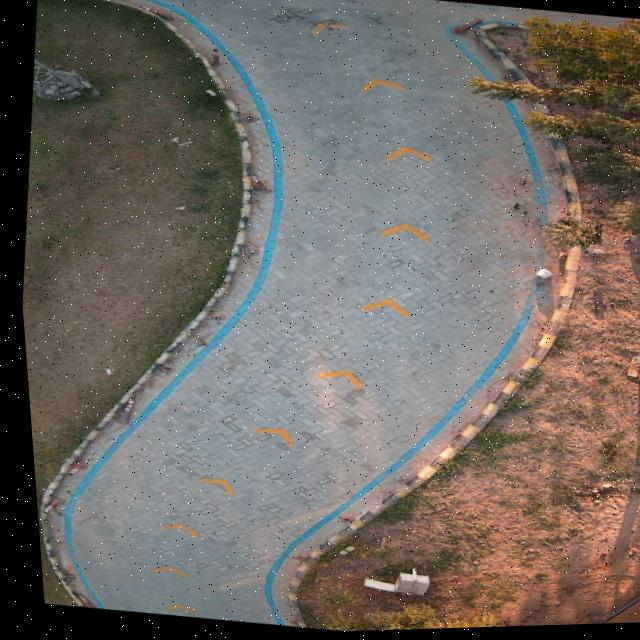No Car: (17, 0, 640, 633)
